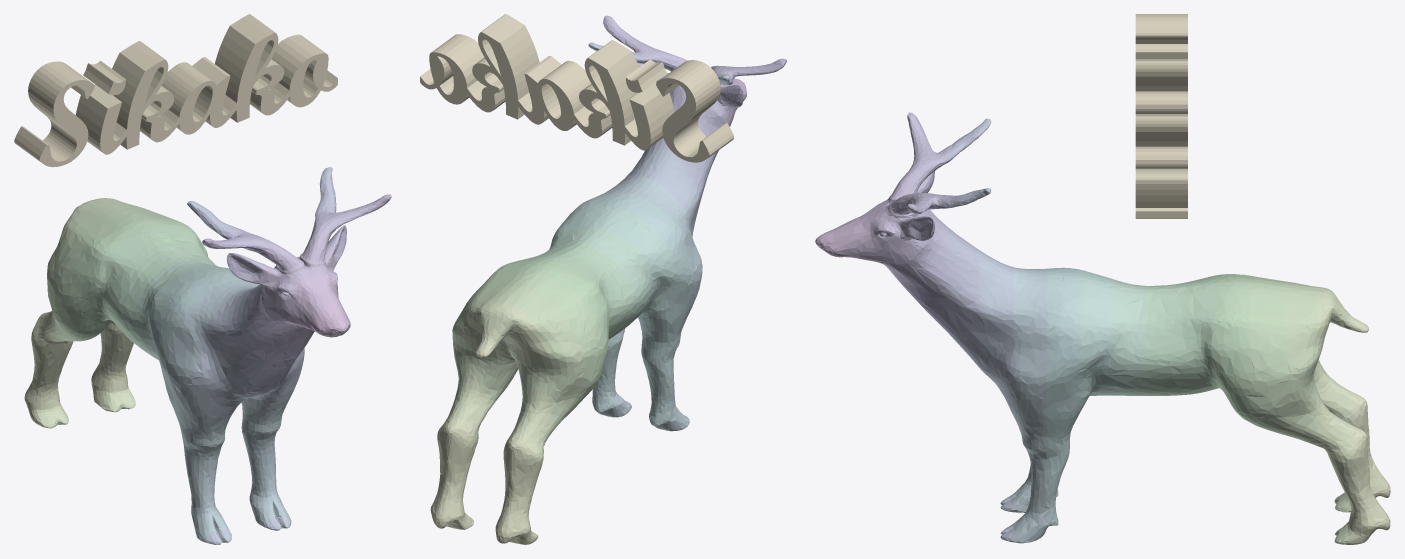
Rendered from sikaDeer.glb.
3 views of the same model, side by side, from view 1: azimuth 30°, elevation 25°; view 2: azimuth 150°, elevation 25°; view 3: azimuth 270°, elevation 25° (orthographic). The views are drawn at different scales.
Visible parts, largest first — view 1: Mesh_Mesh_head_geo.001_lambert2SG.001; view 2: Mesh_Mesh_head_geo.001_lambert2SG.001; view 3: Mesh_Mesh_head_geo.001_lambert2SG.001.
Part boxes in pixels (box(x1,y1,x2,y2)): Mesh_Mesh_head_geo.001_lambert2SG.001: box(14, 14, 391, 544); Mesh_Mesh_head_geo.001_lambert2SG.001: box(420, 14, 786, 544); Mesh_Mesh_head_geo.001_lambert2SG.001: box(815, 14, 1390, 544).
Bounding box in the file's own units: 67.81 × 94.7 × 110.
